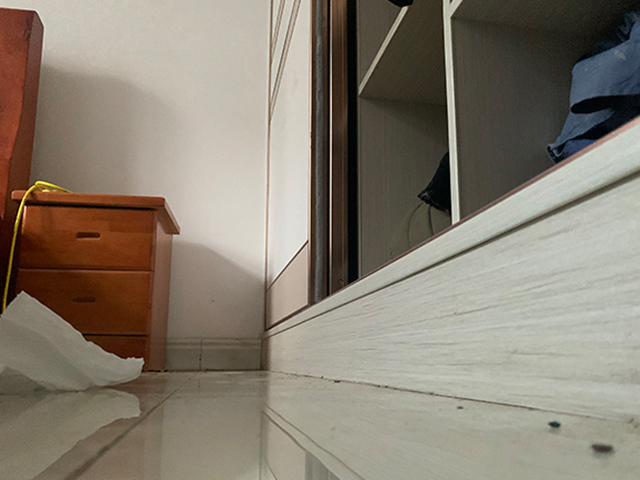cabinet: (266, 1, 640, 426), (10, 187, 180, 375)
